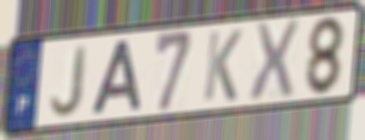7: (154, 29, 194, 115)
8: (304, 14, 347, 98)
A: (89, 37, 145, 117)
J: (48, 43, 91, 119)
K: (201, 27, 245, 104)
X: (246, 18, 301, 106)
